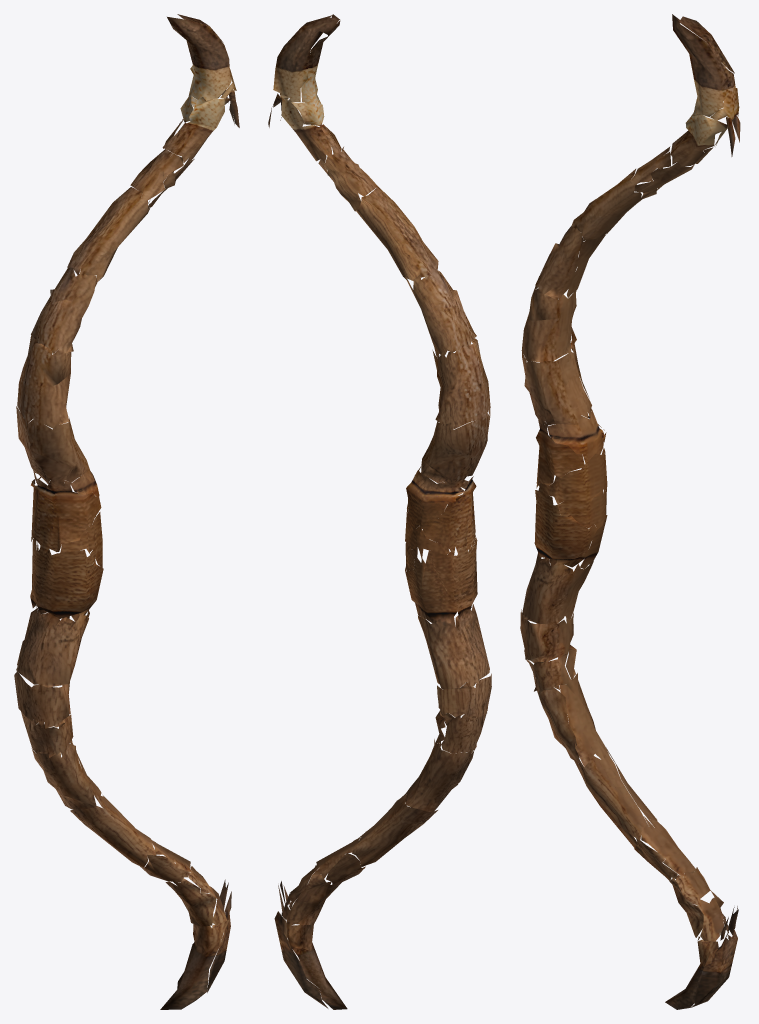
Rendered from khazar_bow.glb.
3 views of the same model, side by side, from view 1: azimuth 30°, elevation 25°; view 2: azimuth 150°, elevation 25°; view 3: azimuth 330°, elevation 25° (orthographic).
Parts seen in each view (by area): view 1: khazar_bow; view 2: khazar_bow; view 3: khazar_bow.
Part boxes in pixels (<box>): khazar_bow: <box>14,14,239,1009</box>; khazar_bow: <box>268,14,491,1009</box>; khazar_bow: <box>520,14,740,1009</box>.
Bounding box in the file's own units: 0.2479 × 1.1 × 0.0769.
1 material, 1 textured.
